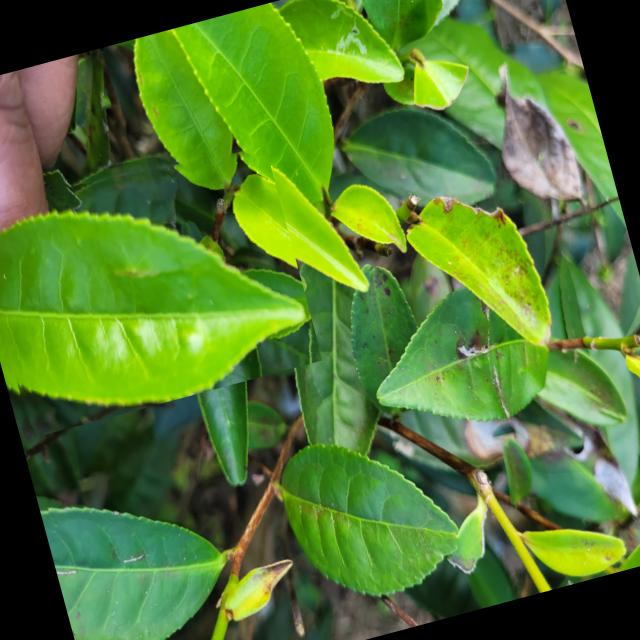Category B 2-4 days: (0, 127, 322, 440)
